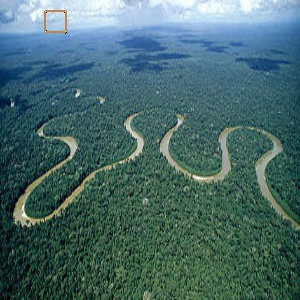square: (42, 8, 69, 35)
